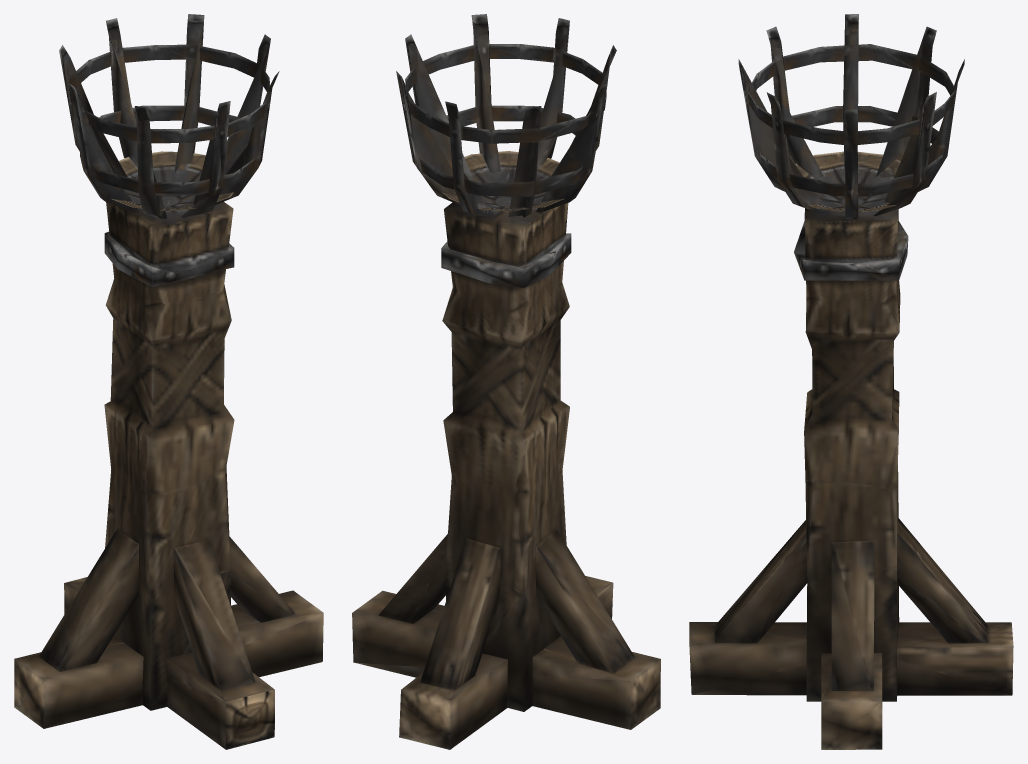
File: prop_torch.glb
3 renders of one model, left to right at view 1: azimuth 30°, elevation 25°; view 2: azimuth 150°, elevation 25°; view 3: azimuth 270°, elevation 25°, orthographic.
Bounding box in the file's own units: 0.9349 × 2 × 0.9452.
Materials: 1 (1 with a texture image).
